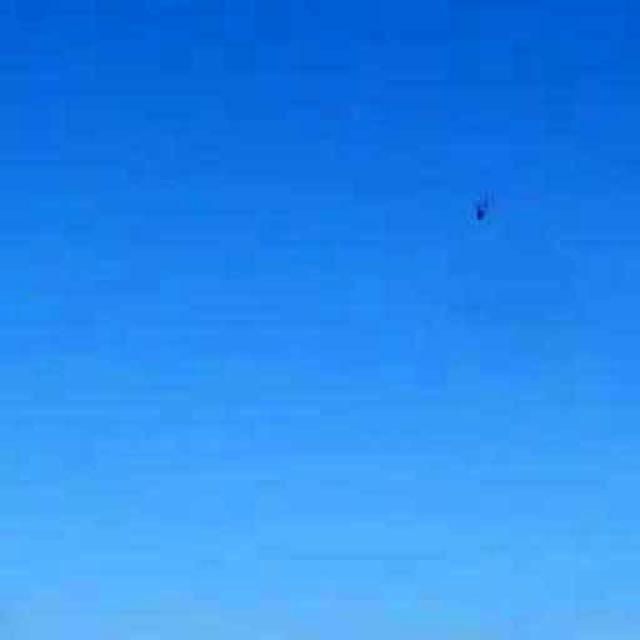drone: (451, 168, 509, 250)
